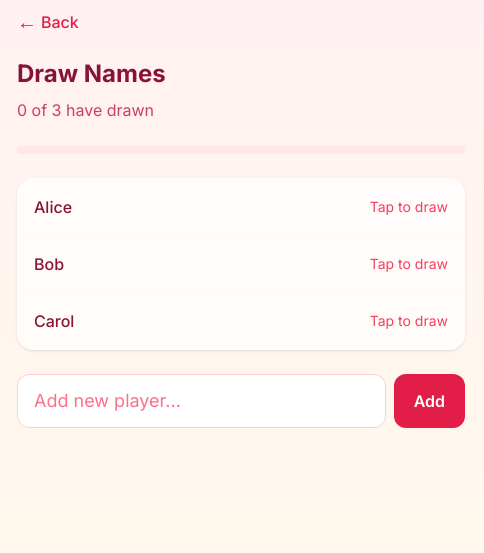
DrawScreen › Privacy phase › shows privacy screen when a player taps to draw
Click the button with aria-label "Alice — tap to draw" at (53, 207), box [18,179,464,235]
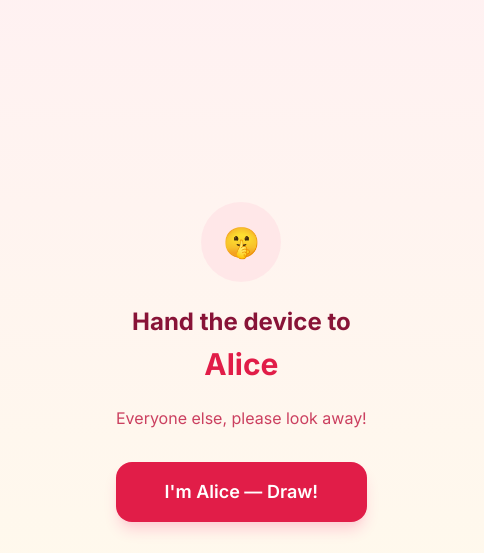
Now the heading "Hand the device to" is shown, box [116,306,366,338]
Now the text "Alice" is shown, box [204,346,278,382]
